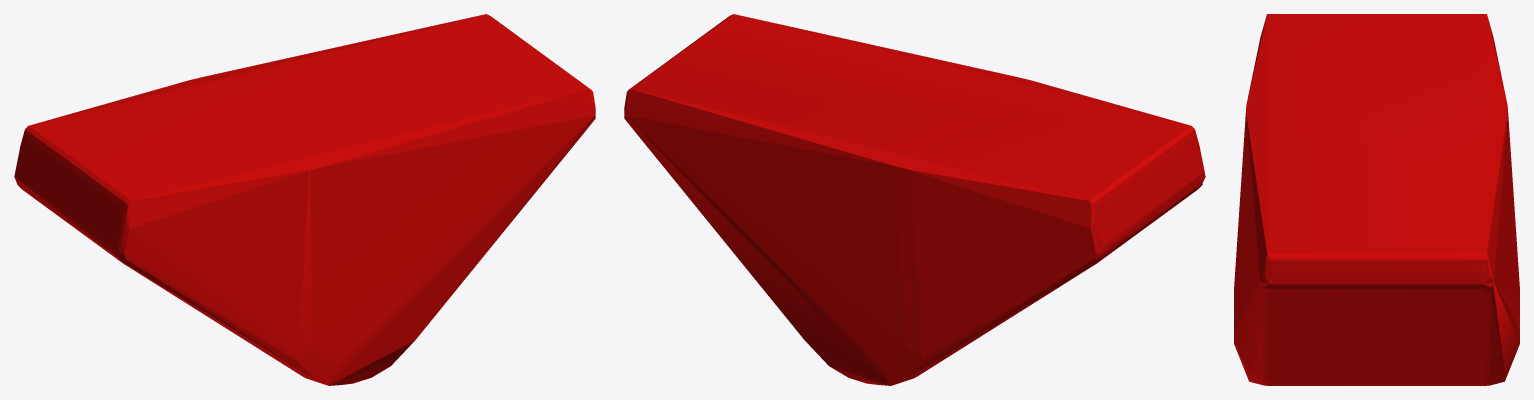
File: blaster_top_collision.dae
3 renders of one model, left to right at view 1: azimuth 30°, elevation 25°; view 2: azimuth 150°, elevation 25°; view 3: azimuth 270°, elevation 25°, orthographic. The views are drawn at different scales.
Visible parts, largest first — view 1: blaster_top_collision; view 2: blaster_top_collision; view 3: blaster_top_collision.
Part boxes in pixels (left/top/right/bottom): blaster_top_collision: left=14, top=14, right=595, bottom=385; blaster_top_collision: left=624, top=14, right=1205, bottom=385; blaster_top_collision: left=1234, top=14, right=1519, bottom=385.
Bounding box in the file's own units: 0.1626 × 0.0788 × 0.0758.
